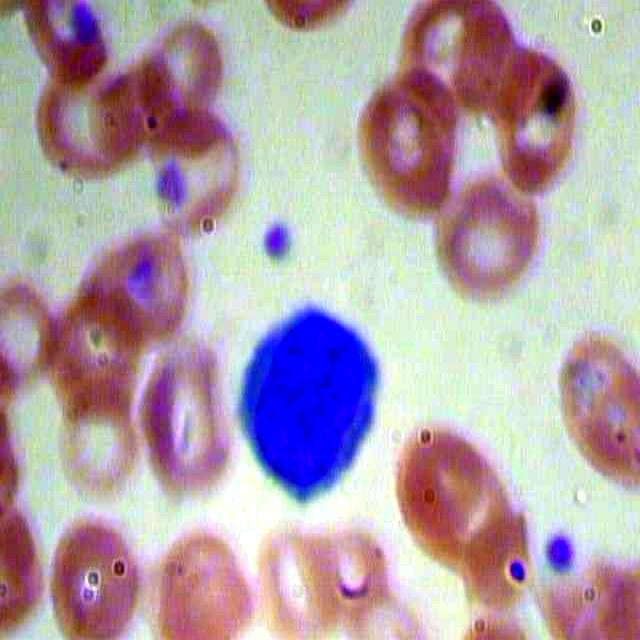Platelets: (257, 216, 300, 269), (541, 525, 582, 580)
WBC: (221, 297, 386, 516)
